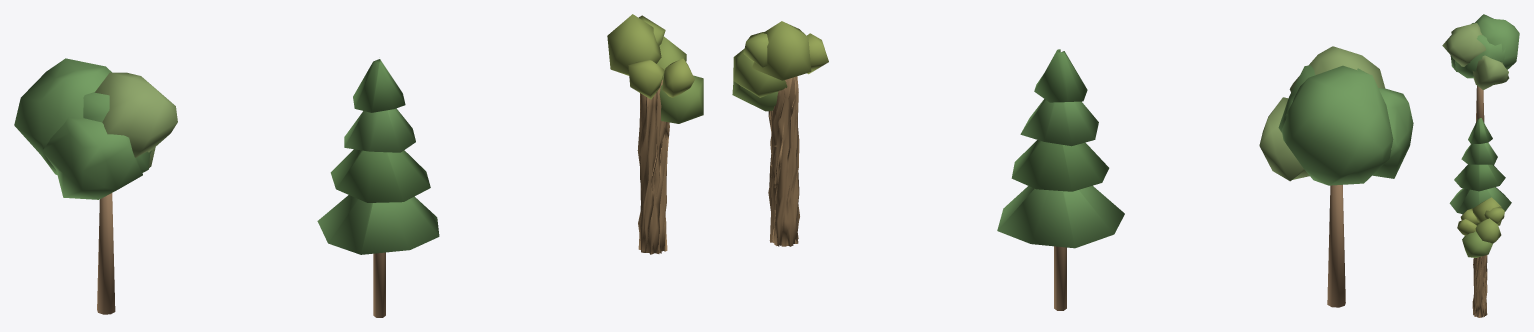
The model's file is trees.glb.
The picture shows the model from 3 angles, left to right: view 1: azimuth 30°, elevation 25°; view 2: azimuth 150°, elevation 25°; view 3: azimuth 270°, elevation 25°; orthographic projection. The views are drawn at different scales.
Parts seen in each view (by area): view 1: Tree_Oak, Tree_Pine, Tree_Fantasy; view 2: Tree_Oak, Tree_Pine, Tree_Fantasy; view 3: Tree_Oak, Tree_Pine, Tree_Fantasy.
Part boxes in pixels (x1,y1,x2,y2): Tree_Oak: (14,58,177,314); Tree_Pine: (317,59,439,317); Tree_Fantasy: (607,14,703,254); Tree_Oak: (1259,46,1413,307); Tree_Pine: (997,49,1124,310); Tree_Fantasy: (732,21,828,246); Tree_Oak: (1442,14,1519,122); Tree_Pine: (1449,118,1511,214); Tree_Fantasy: (1457,197,1504,317).
Bounding box in the file's own units: 12.18 × 5.45 × 2.43.
